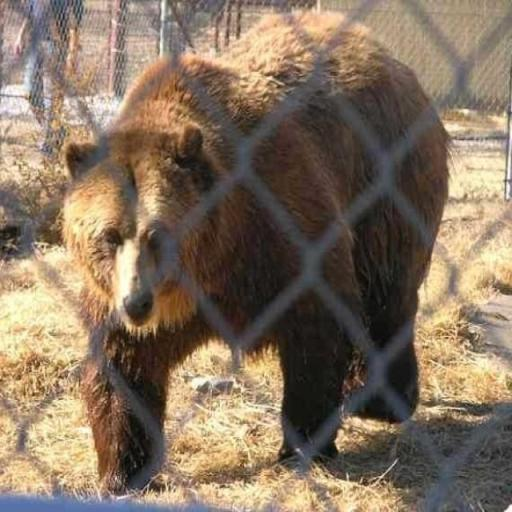Bear: (57, 8, 453, 494)
